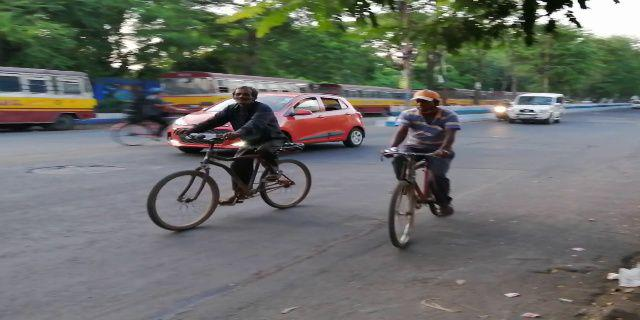Bus: (1, 67, 102, 131)
Car: (163, 90, 368, 157), (502, 87, 571, 131)
Cycle: (135, 82, 311, 234), (376, 85, 460, 256)
